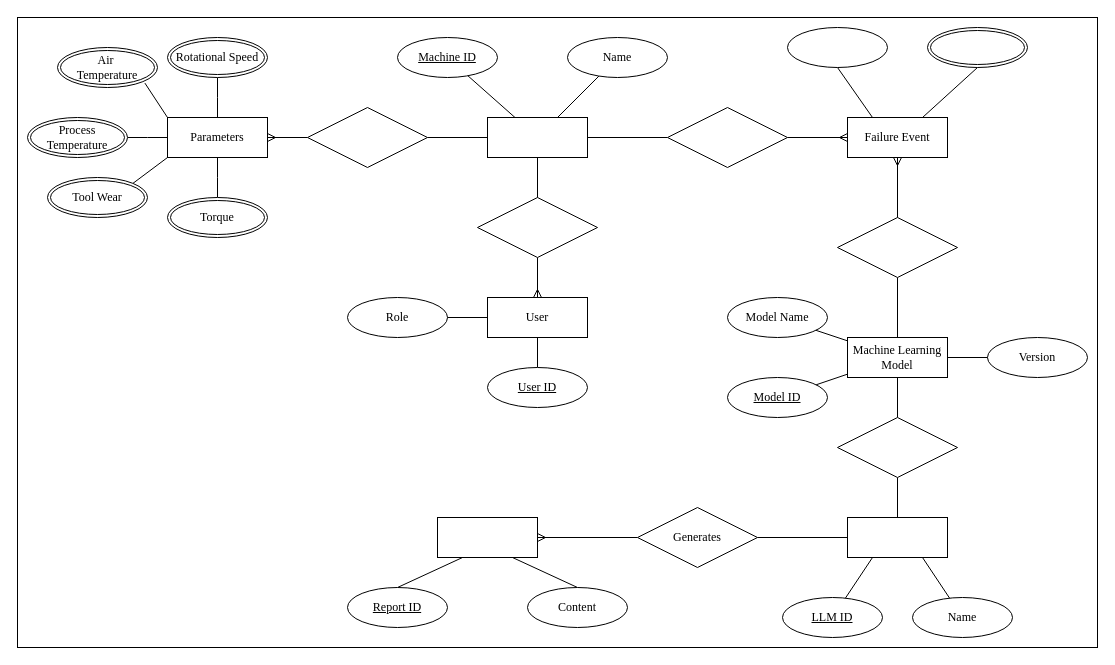
Image size: 1115x665. Some labels were removed from this diagram. Each missing label, with the centre of its shape:
"Analyzed By" belongs at point (897, 247).
"Diagnostic Report" belongs at point (487, 537).
"Failure ID" belongs at point (837, 47).
"Failure Type" belongs at point (977, 47).
"Has" belongs at point (727, 137).
"Large Language Model" belongs at point (897, 537).
"Machine" belongs at point (537, 137).
"Manages" belongs at point (537, 227).
"Records" belongs at point (367, 137).
"Sends Results To" belongs at point (897, 447).
